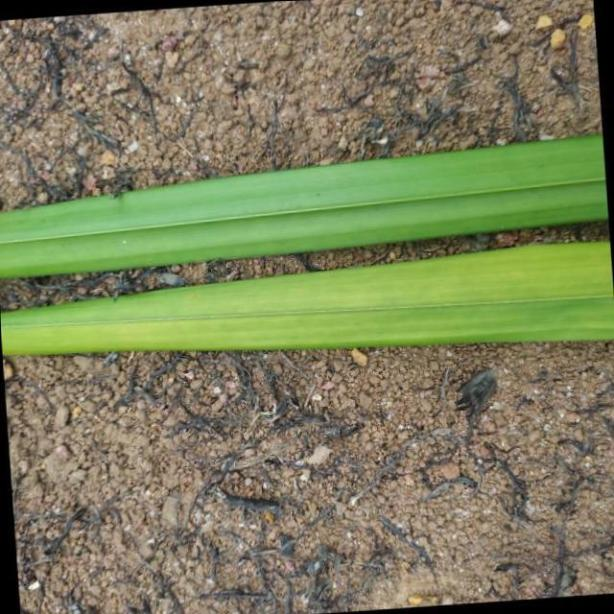nitrogen: (0, 136, 614, 353)
